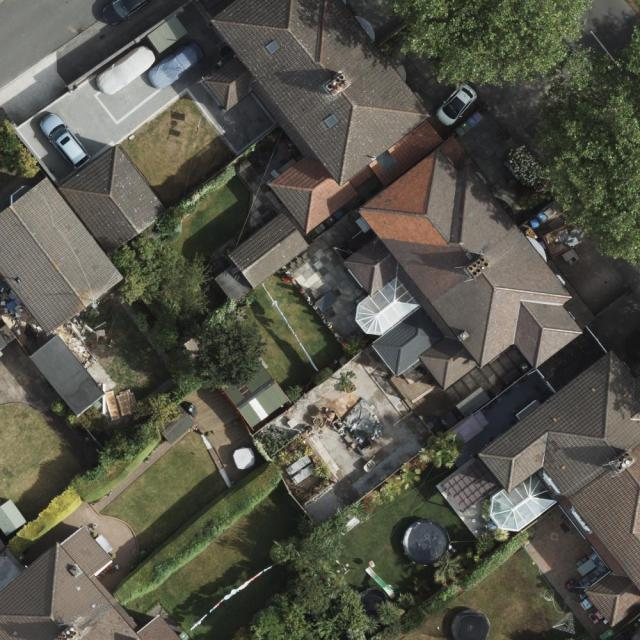roof: (202, 0, 583, 392), (476, 350, 640, 634), (0, 141, 169, 334), (0, 524, 182, 640), (30, 333, 106, 419), (228, 211, 310, 288)
skylight: (489, 471, 557, 534), (355, 278, 422, 336), (322, 114, 341, 131), (265, 39, 281, 56)
